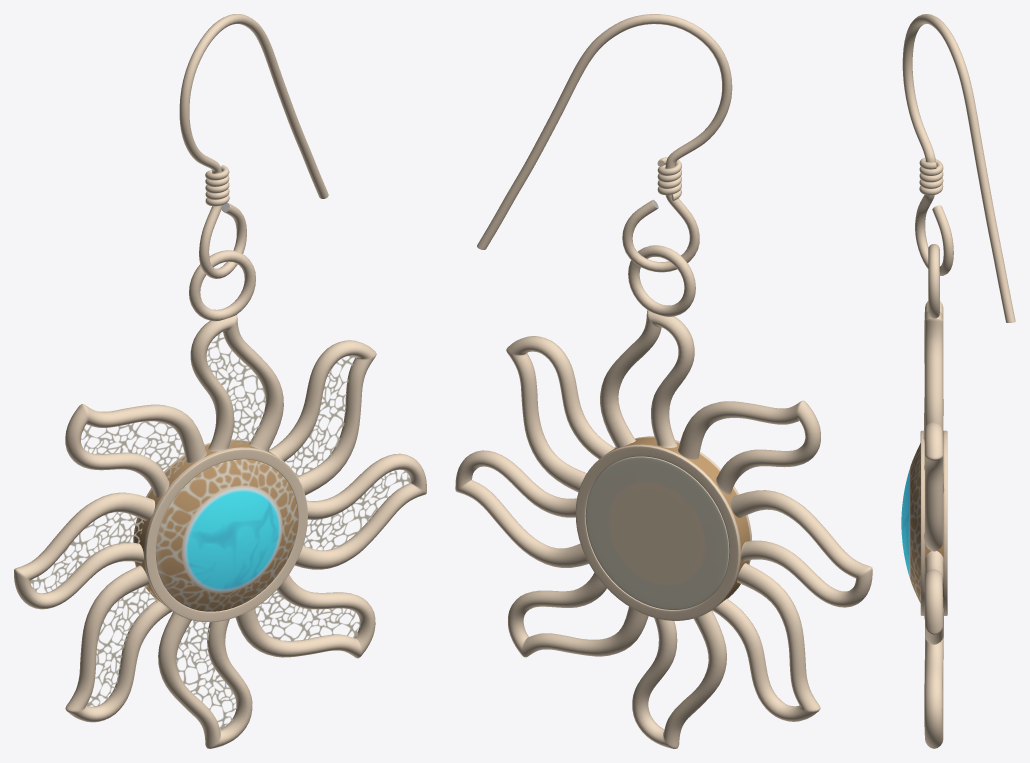
File: earrings.glb
3 views of the same model, side by side, from view 1: azimuth 30°, elevation 25°; view 2: azimuth 150°, elevation 25°; view 3: azimuth 270°, elevation 25° (orthographic).
Visible parts, largest first — view 1: Oxidised_Silver_Sun_Earrings; view 2: Oxidised_Silver_Sun_Earrings; view 3: Oxidised_Silver_Sun_Earrings.
Boxes of the visible parts, bbox=[...] form: Oxidised_Silver_Sun_Earrings: bbox=[14, 14, 426, 748]; Oxidised_Silver_Sun_Earrings: bbox=[455, 14, 872, 748]; Oxidised_Silver_Sun_Earrings: bbox=[901, 14, 1015, 748].
Size of the model in its own units: 0.0267 by 0.045 by 0.00649.
Materials: 1 (1 with a texture image).
